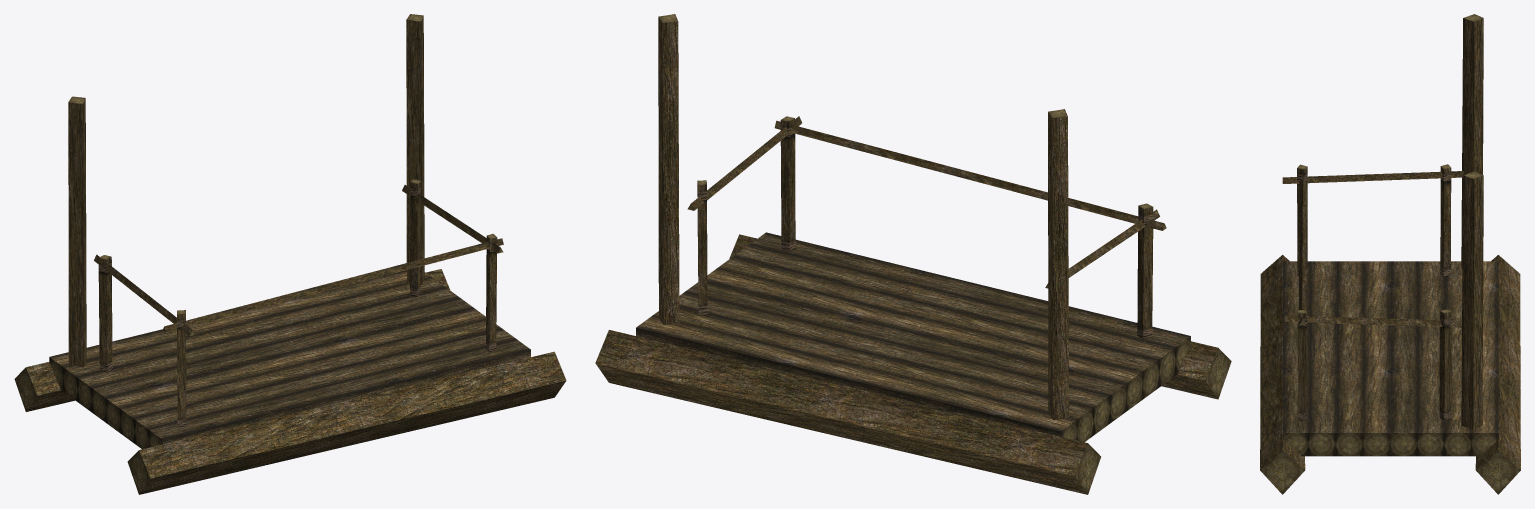
The model's file is thm_endr_village_tree_viewpoint_s01_l1.fbx.
3 renders of one model, left to right at view 1: azimuth 30°, elevation 25°; view 2: azimuth 150°, elevation 25°; view 3: azimuth 270°, elevation 25°, orthographic. The views are drawn at different scales.
Visible parts, largest first — view 1: mesh_node; view 2: mesh_node; view 3: mesh_node.
Part boxes in pixels (x1,y1,x2,y2): mesh_node: (14,14,566,494); mesh_node: (595,14,1231,494); mesh_node: (1260,14,1520,494).
Bounding box in the file's own units: 4.04 × 2.93 × 2.3.
